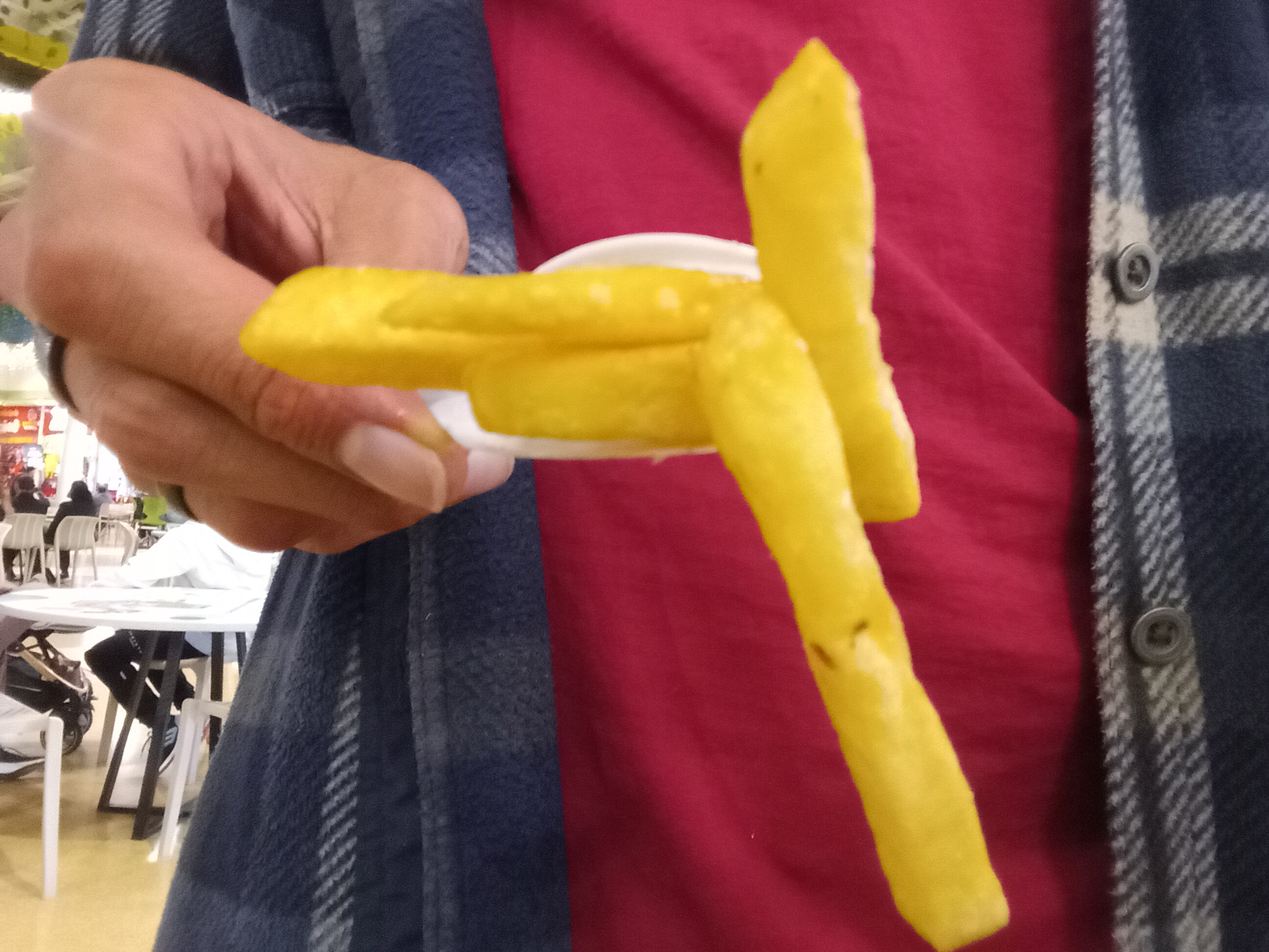Organico: (239, 40, 1010, 952)
